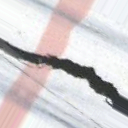crackTip: (1, 38, 128, 118)
